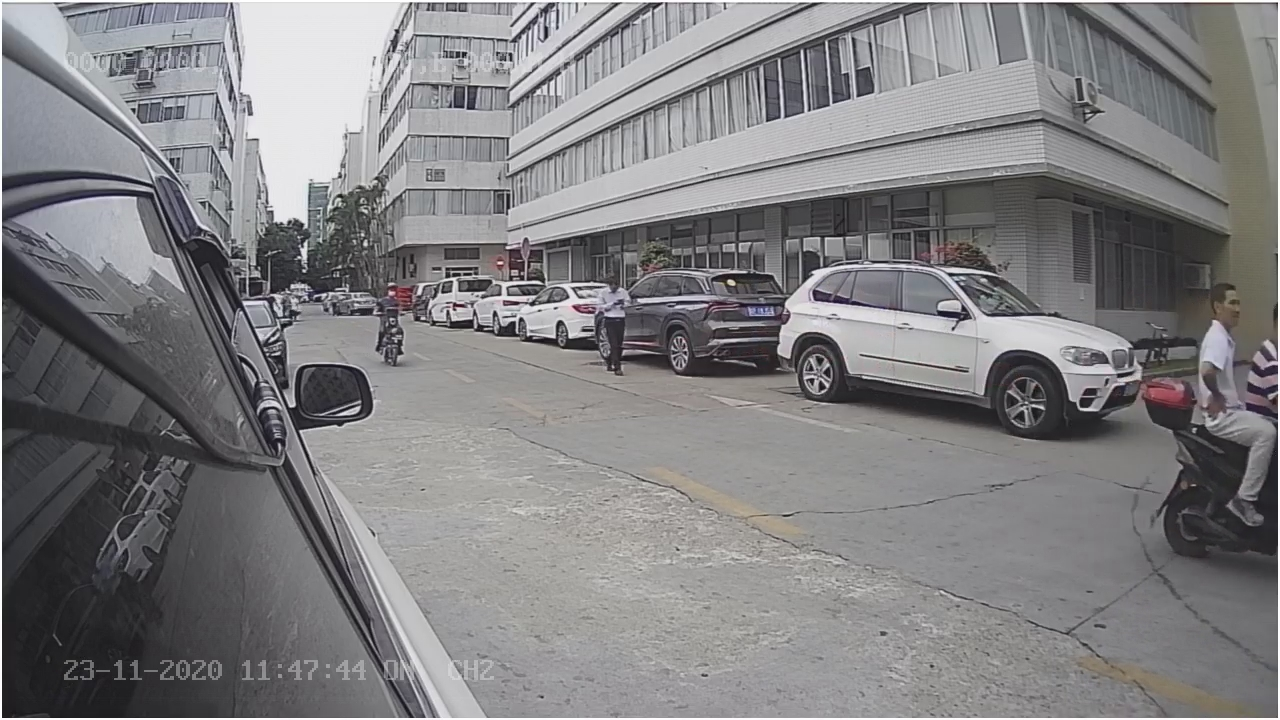person: (1185, 279, 1245, 419)
